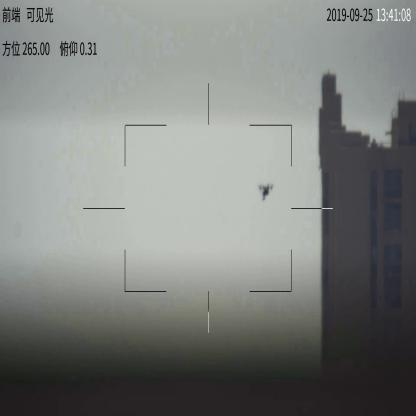uav: (257, 180, 275, 204)
